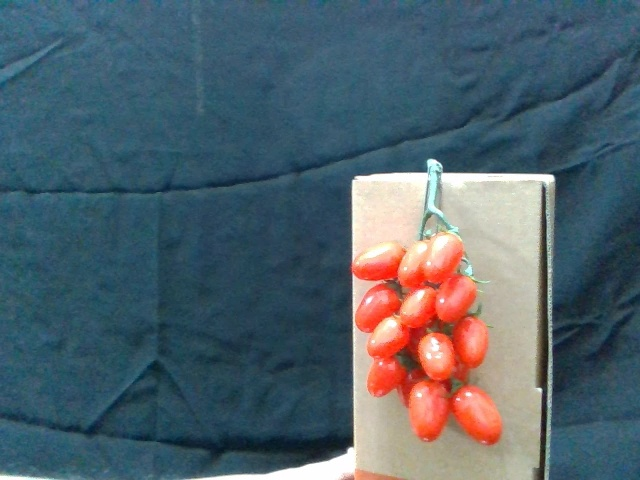tomato: (450, 384, 504, 444), (410, 380, 449, 444), (352, 240, 408, 282), (354, 285, 401, 331), (437, 275, 477, 325), (417, 332, 457, 382), (454, 317, 492, 369), (368, 316, 412, 360), (427, 233, 464, 283), (367, 354, 406, 401), (400, 288, 438, 333), (399, 239, 432, 288)
